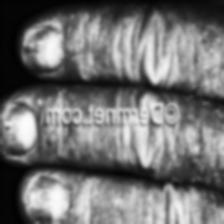Non-Cancerous Skin Condition: (176, 105, 224, 186), (84, 2, 132, 78)
